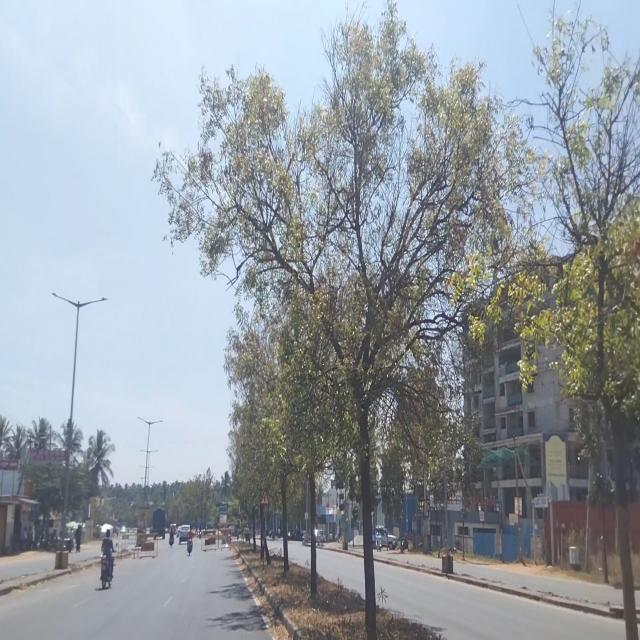bien_cam: (261, 489, 269, 507)
